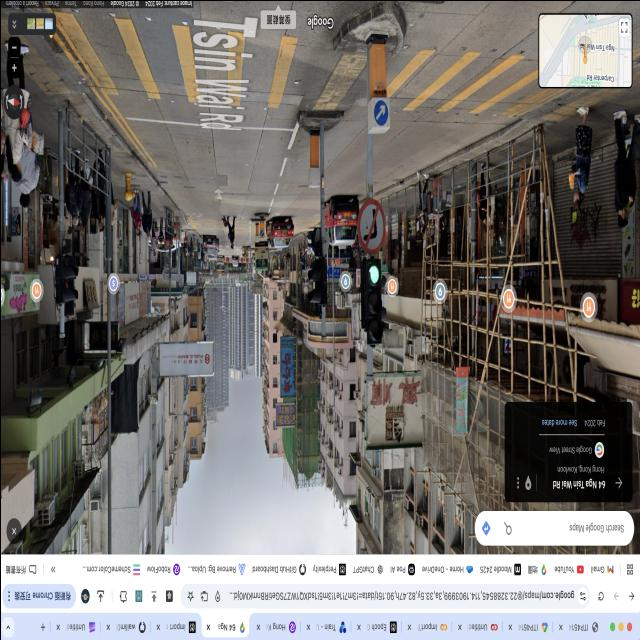Order-Sign: (354, 194, 388, 254)
